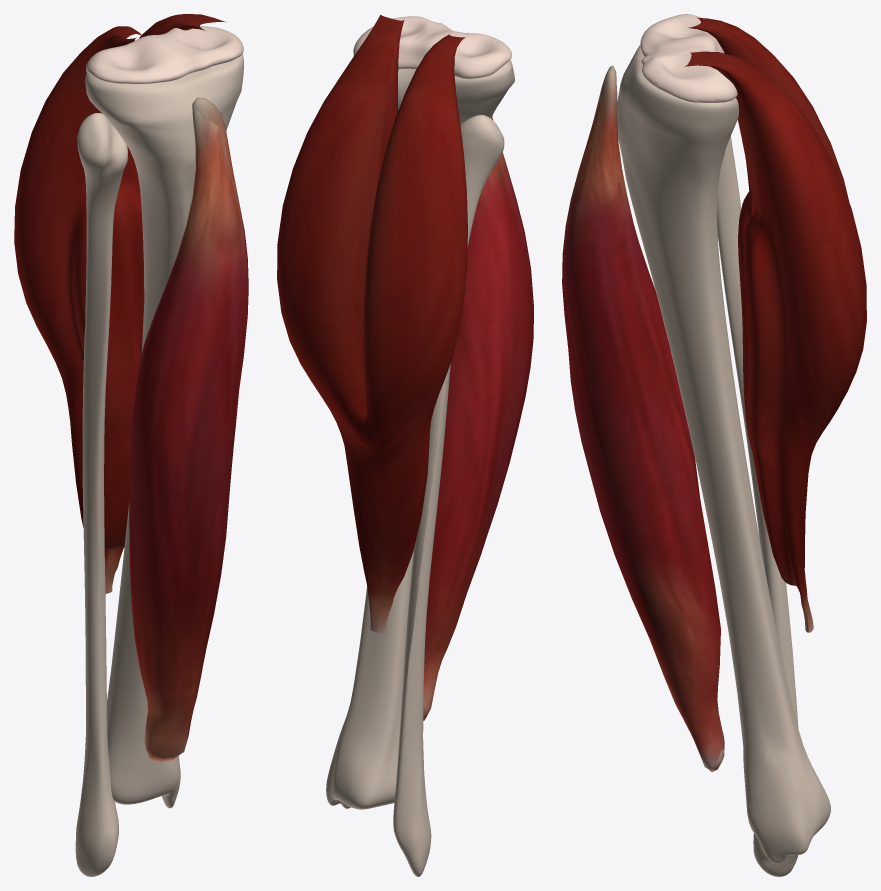
Rendered from LowerLeg.gltf.
3 views of the same model, side by side, from view 1: azimuth 30°, elevation 25°; view 2: azimuth 150°, elevation 25°; view 3: azimuth 270°, elevation 25° (orthographic). The views are drawn at different scales.
Parts seen in each view (by area): view 1: muscle 04, Tibia, muscle 05, Object003; view 2: muscle 05, muscle 04, Tibia, Object003; view 3: Tibia, muscle 04, muscle 05, Object003.
Part boxes in pixels (x1,y1,x2,y2): muscle 04: [129, 97, 248, 762]; Tibia: [75, 54, 243, 876]; muscle 05: [14, 14, 225, 593]; Object003: [86, 26, 243, 83]; muscle 05: [277, 15, 467, 633]; muscle 04: [423, 116, 533, 720]; Tibia: [326, 59, 514, 876]; Object003: [353, 16, 511, 78]; Tibia: [617, 44, 830, 876]; muscle 04: [562, 65, 724, 771]; muscle 05: [685, 17, 866, 632]; Object003: [640, 14, 737, 102].
Size of the model in its own units: 0.2603 by 1.16 by 0.3738.
Materials: 3 (1 with a texture image).
